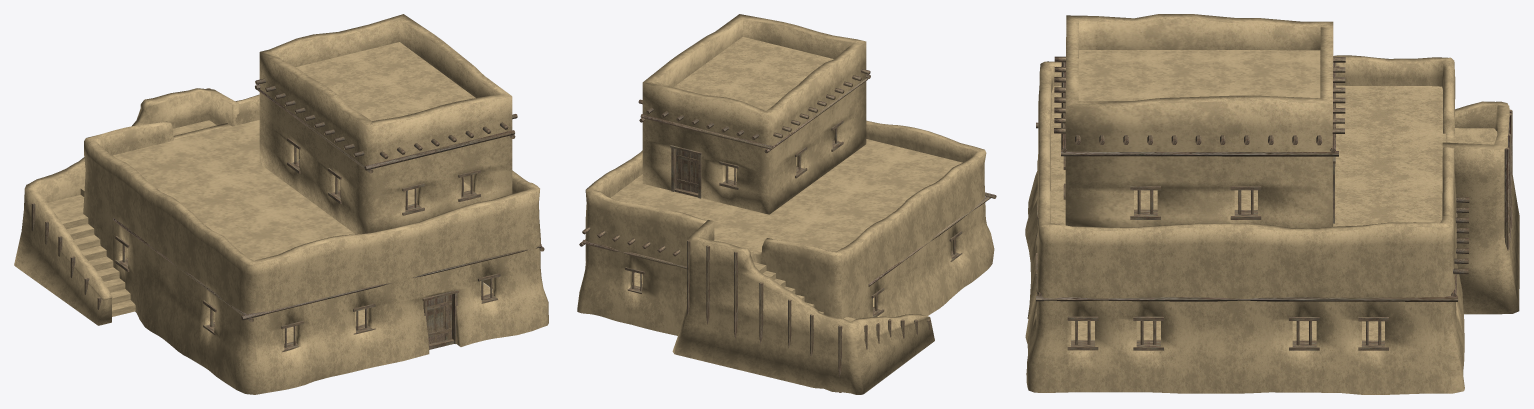
The model's file is egypt_house_009.glb.
3 renders of one model, left to right at view 1: azimuth 30°, elevation 25°; view 2: azimuth 150°, elevation 25°; view 3: azimuth 270°, elevation 25°, orthographic. The views are drawn at different scales.
Visible parts, largest first — view 1: upper, walls; view 2: upper, walls; view 3: upper, walls.
Boxes of the visible parts, x1,y1,x2,y2 form: upper: (67, 14, 539, 289); walls: (14, 115, 548, 394); upper: (583, 14, 986, 314); walls: (577, 175, 996, 394); upper: (1037, 14, 1511, 272); walls: (1025, 101, 1519, 394).
Bounding box in the file's own units: 9.51 × 6.1 × 9.66.
Materials: 2 (2 with a texture image).
